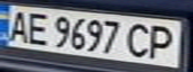6: (66, 16, 87, 52)
7: (100, 17, 127, 55)
9: (48, 14, 72, 50), (84, 17, 106, 53)
A: (3, 8, 33, 43)
C: (124, 20, 157, 58)
E: (21, 10, 51, 46)
P: (142, 21, 184, 60)
